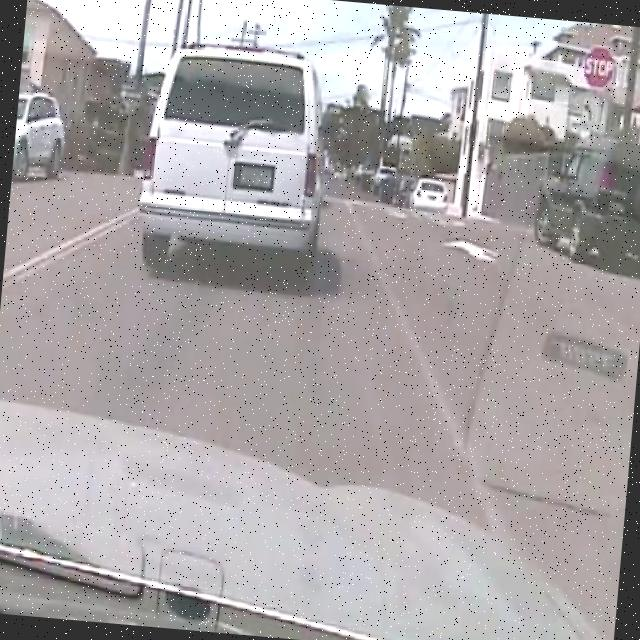Stop: (580, 39, 618, 93)
